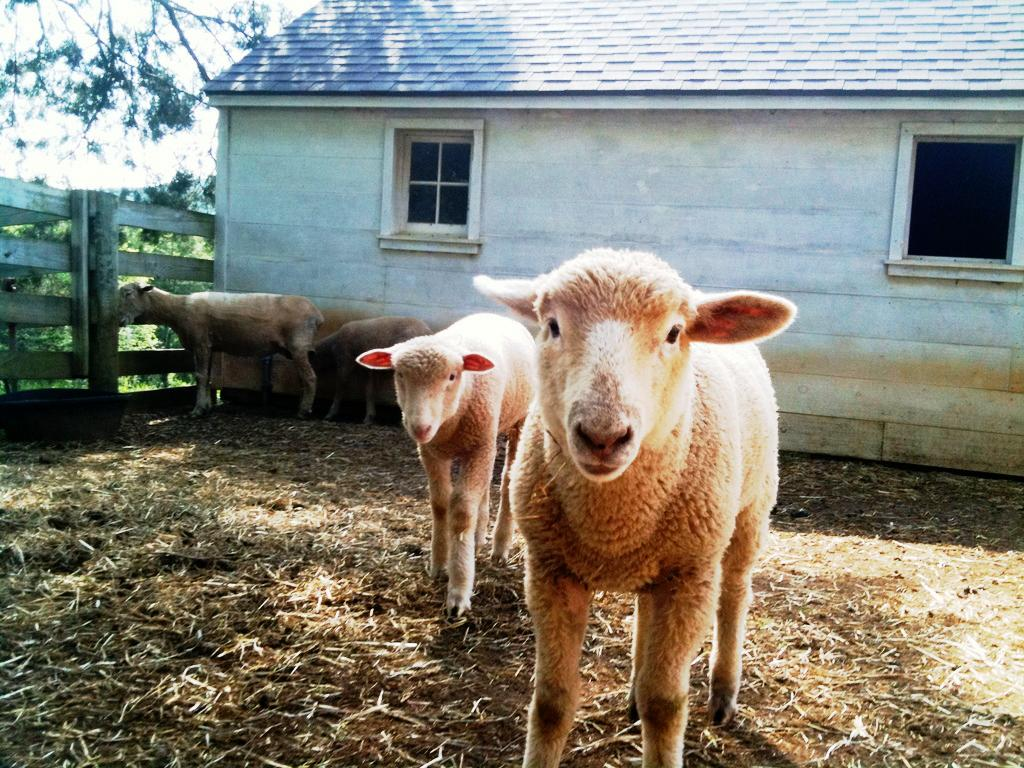Sheep: (470, 246, 798, 768), (356, 314, 536, 618)
